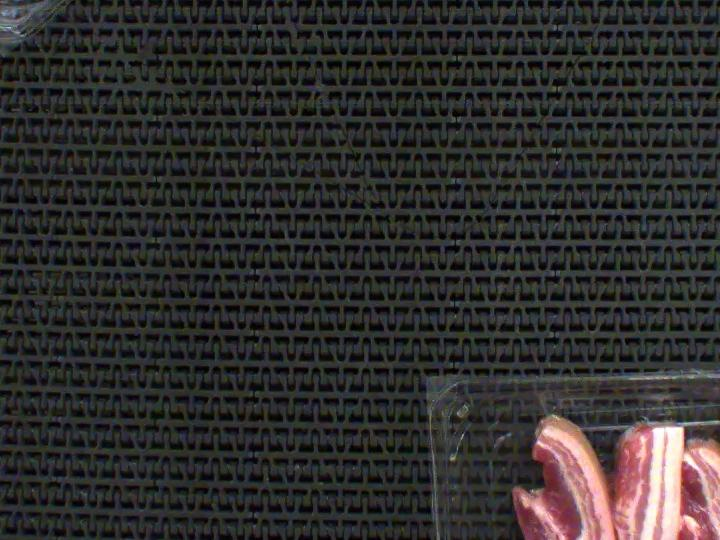packaging-error: (523, 383, 556, 419)
